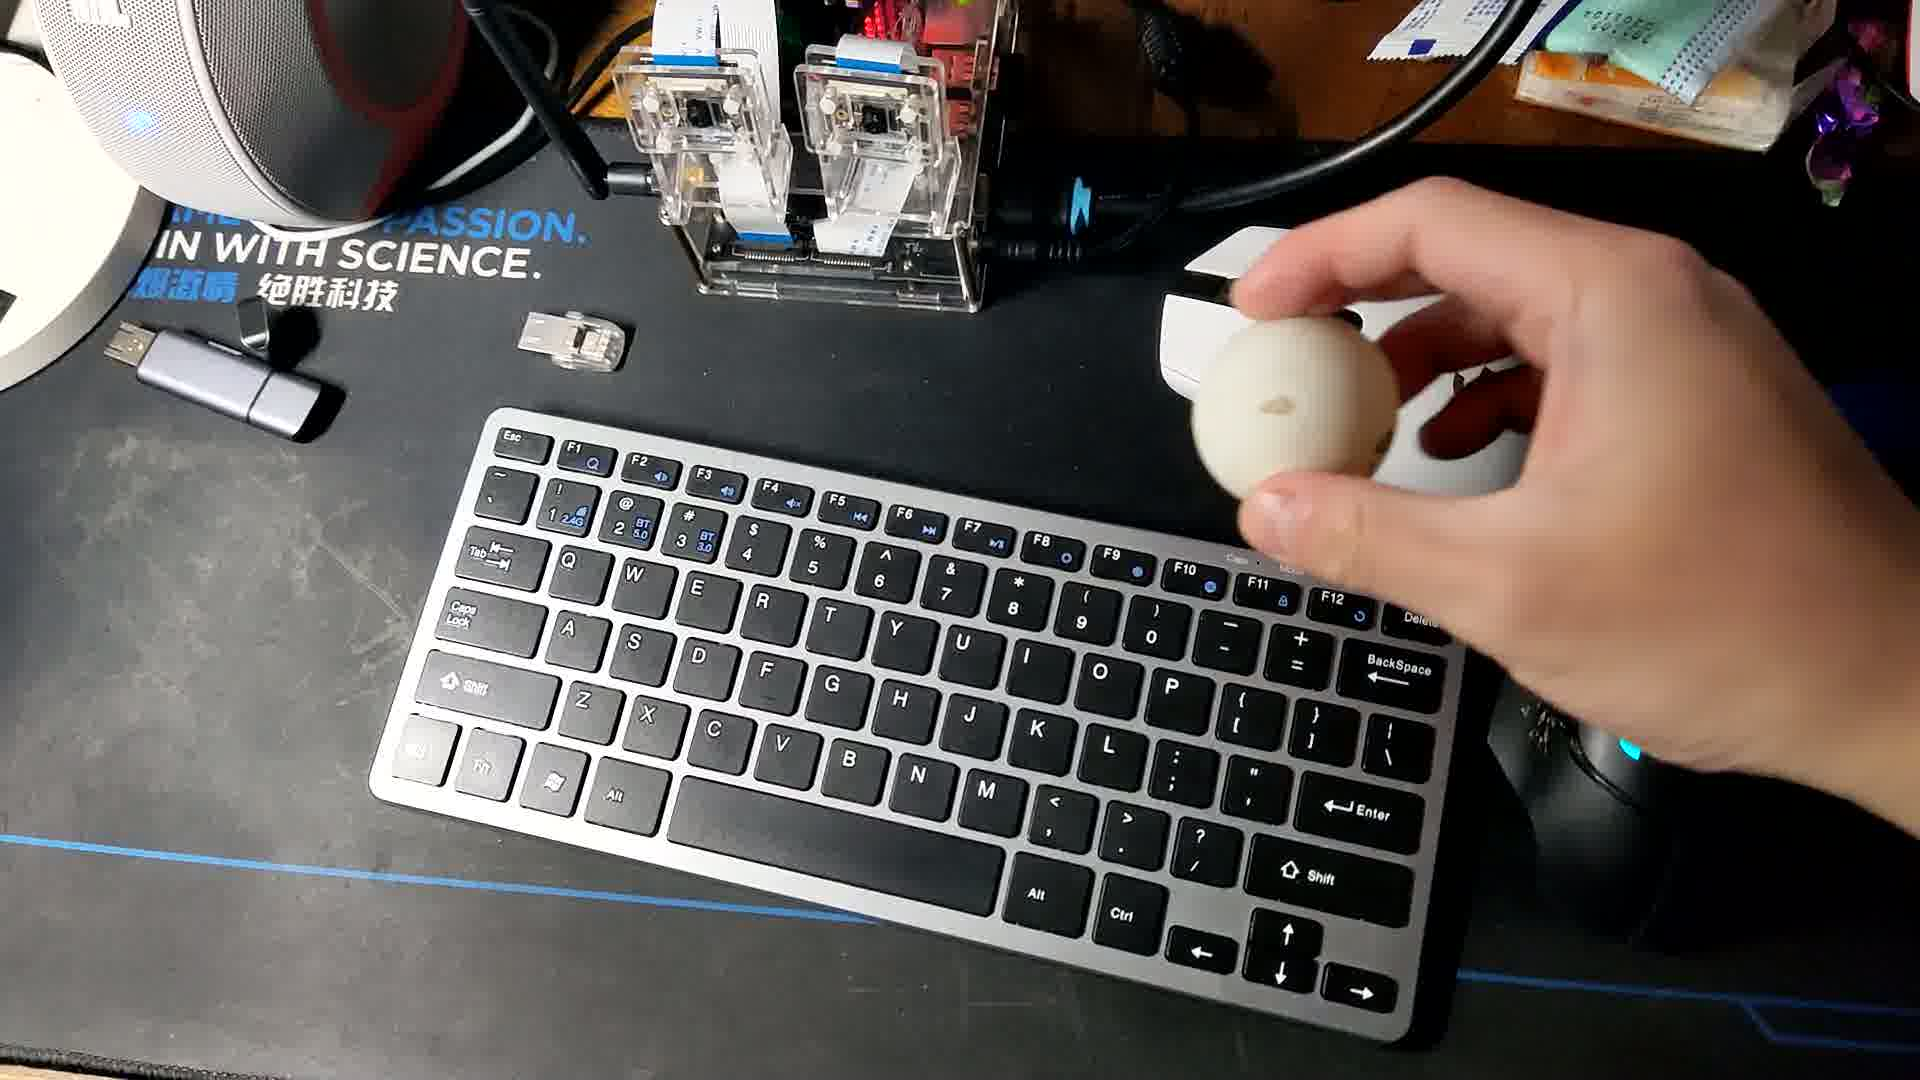Ball: (1193, 320, 1396, 514)
